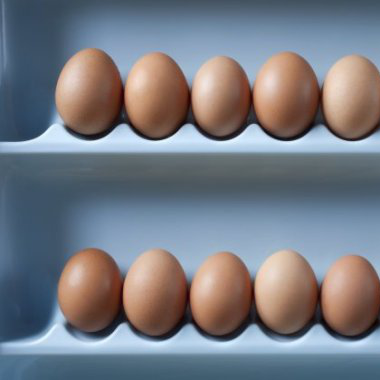egg: (48, 247, 378, 342), (52, 48, 379, 140)
